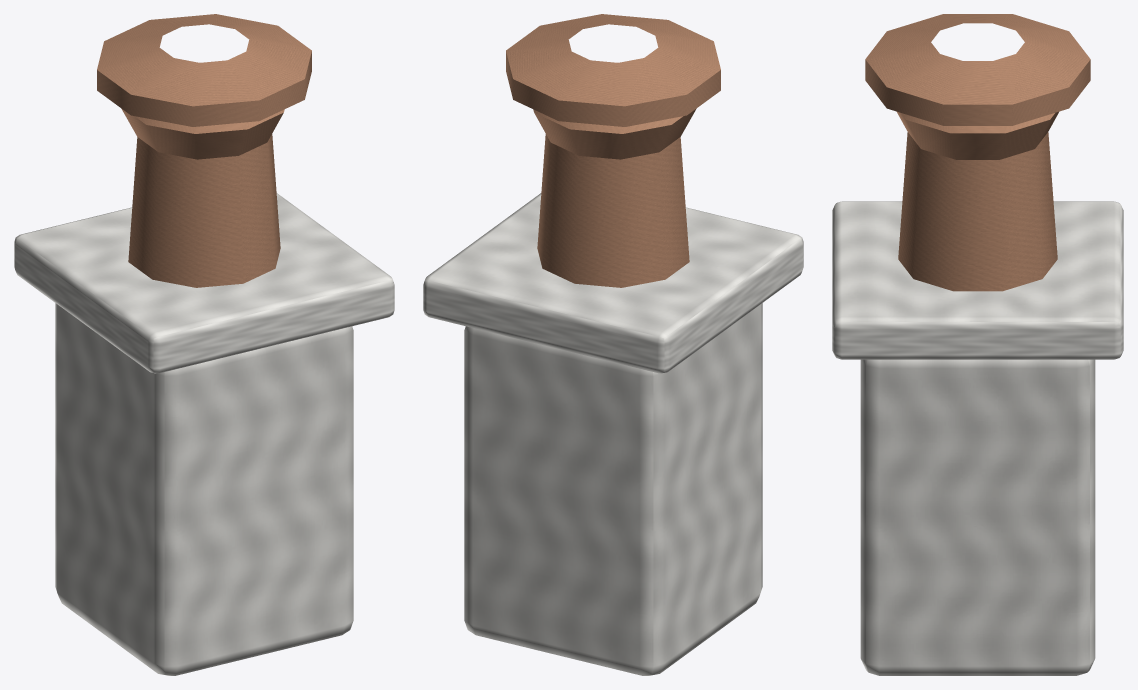
Rendered from greek-island-village-and-harbour-chimney-pot-a3095a9a__37069.glb.
3 renders of one model, left to right at view 1: azimuth 30°, elevation 25°; view 2: azimuth 150°, elevation 25°; view 3: azimuth 270°, elevation 25°, orthographic. The views are drawn at different scales.
Parts seen in each view (by area): view 1: chimney-pot; view 2: chimney-pot; view 3: chimney-pot.
Part boxes in pixels (x1,y1,x2,y2): chimney-pot: (14, 14, 394, 675); chimney-pot: (423, 14, 803, 675); chimney-pot: (832, 14, 1123, 675).
Bounding box in the file's own units: 0.62 × 1.39 × 0.62.
Materials: 2 (2 with a texture image).
